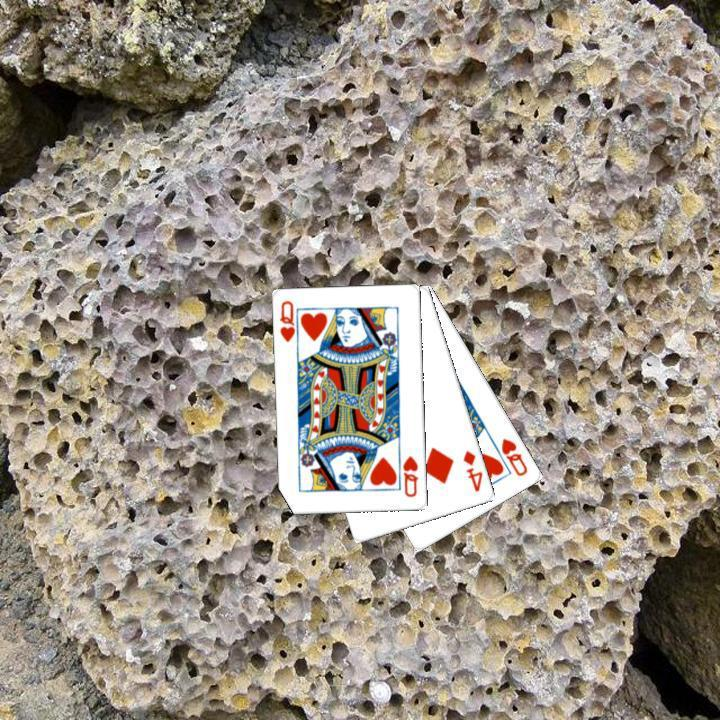4: (459, 446, 485, 494)
Q: (497, 434, 530, 478), (276, 297, 301, 349), (399, 452, 420, 500)
